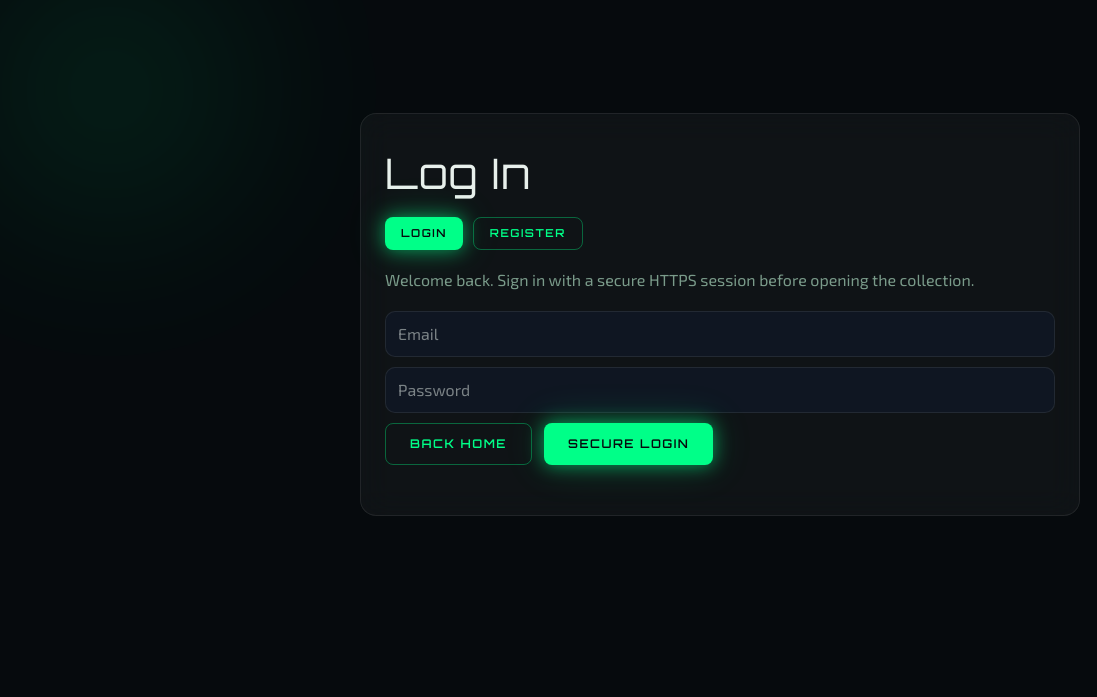
Test: AuthPage › shows each validation issue returned by registration
The width and height of the screenshot is (1097, 697).
Click the button "Register".
click(528, 234)  # box [473, 217, 583, 250]
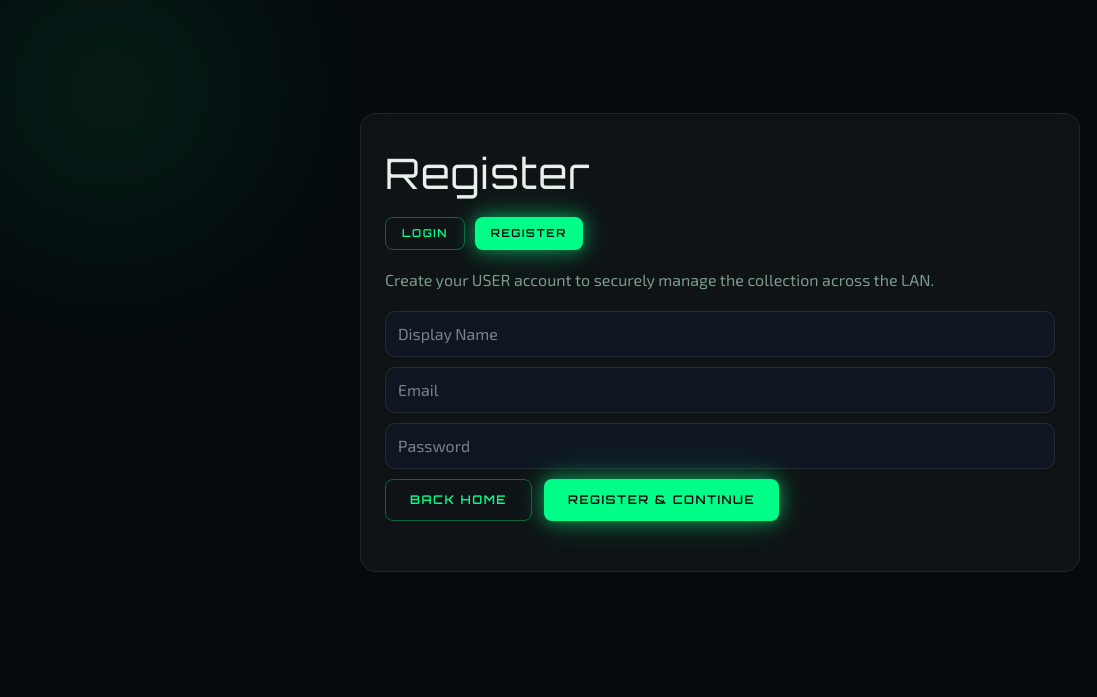
Click the button "Register & Continue".
click(662, 500)  # box [544, 479, 779, 521]
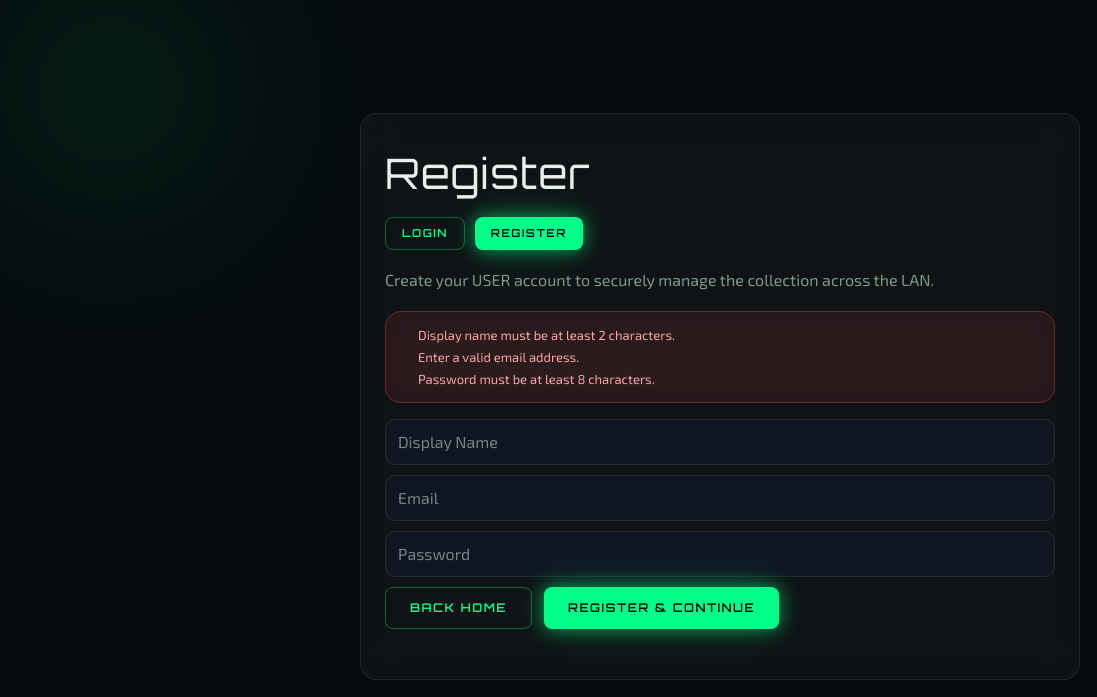
Now the list item "Display name must be at least 2 characters." is shown, box [418, 327, 675, 343]
Now the list item "Enter a valid email address." is shown, box [418, 349, 579, 365]
Now the list item "Password must be at least 8 characters." is shown, box [418, 371, 655, 387]
